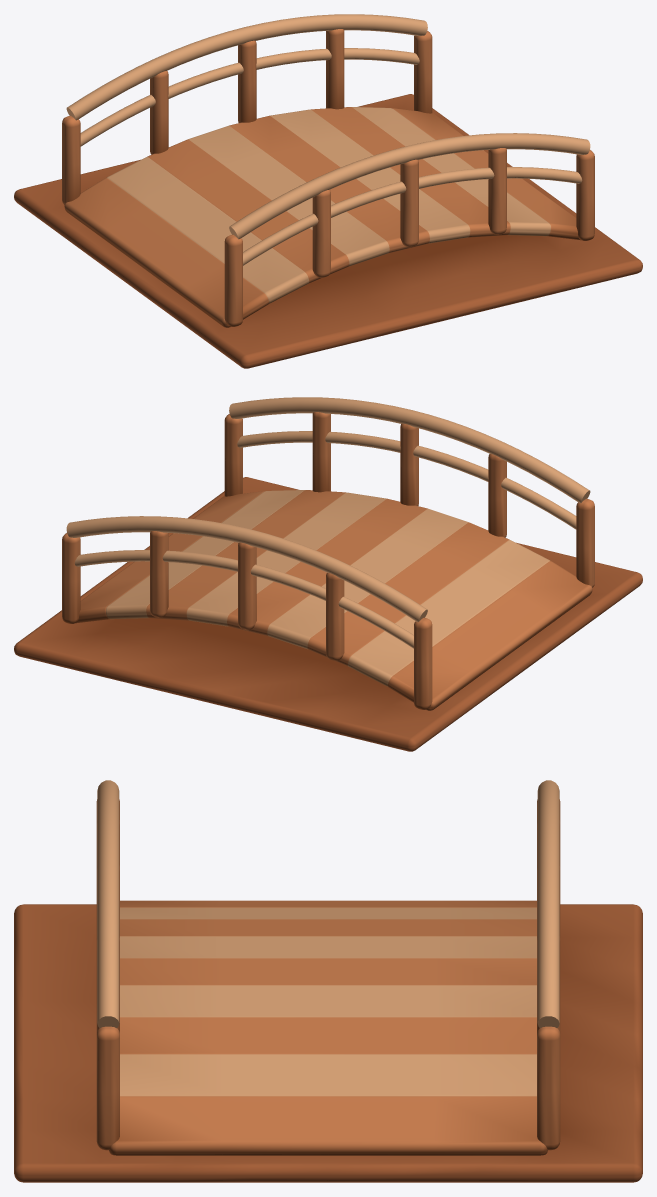
Rendered from tile_bridge.glb.
3 renders of one model, top to bottom at view 1: azimuth 30°, elevation 25°; view 2: azimuth 150°, elevation 25°; view 3: azimuth 270°, elevation 25°, orthographic. The views are drawn at different scales.
Visible parts, largest first — view 1: base, plank0, plank1, plank2, rail_top-1, rail_top1, plank3, plank4, plank5, plank6, rail_mid1, rail_mid-1 (+12 smaller); view 2: base, plank0, plank1, plank2, rail_top1, rail_top-1, plank3, plank4, plank5, plank6, rail_mid-1, rail_mid1 (+12 smaller); view 3: base, plank8, plank7, plank6, plank5, plank4, plank3, plank2, rail_top1, rail_top-1, plank1, plank0 (+2 smaller).
Boxes of the visible parts, x1,y1,x2,y2 form: base: [14, 94, 642, 368]; plank0: [64, 178, 269, 327]; plank1: [106, 157, 309, 303]; plank2: [147, 139, 349, 283]; rail_top-1: [229, 133, 590, 239]; rail_top1: [66, 14, 427, 120]; plank3: [188, 125, 389, 266]; plank4: [229, 115, 429, 252]; plank5: [270, 109, 470, 243]; plank6: [311, 107, 510, 237]; rail_mid1: [80, 48, 419, 146]; rail_mid-1: [243, 167, 582, 265]; base: [14, 477, 642, 751]; plank0: [387, 561, 592, 710]; plank1: [347, 540, 550, 686]; plank2: [307, 522, 509, 666]; rail_top1: [66, 516, 427, 622]; rail_top-1: [229, 397, 590, 503]; plank3: [267, 508, 468, 649]; plank4: [227, 498, 427, 635]; plank5: [186, 492, 386, 626]; plank6: [146, 490, 345, 620]; rail_mid-1: [237, 431, 576, 529]; rail_mid1: [74, 550, 413, 648]; base: [14, 904, 642, 1182]; plank8: [109, 1096, 547, 1155]; plank7: [120, 1054, 536, 1096]; plank6: [120, 1017, 536, 1054]; plank5: [120, 985, 536, 1017]; plank4: [120, 958, 536, 985]; plank3: [120, 936, 536, 958]; plank2: [120, 919, 536, 936]; rail_top1: [537, 780, 559, 1028]; rail_top-1: [97, 780, 119, 1028]; plank1: [120, 907, 536, 919]; plank0: [120, 900, 536, 907].
Bounding box in the file's own units: 4 × 1.44 × 4.
